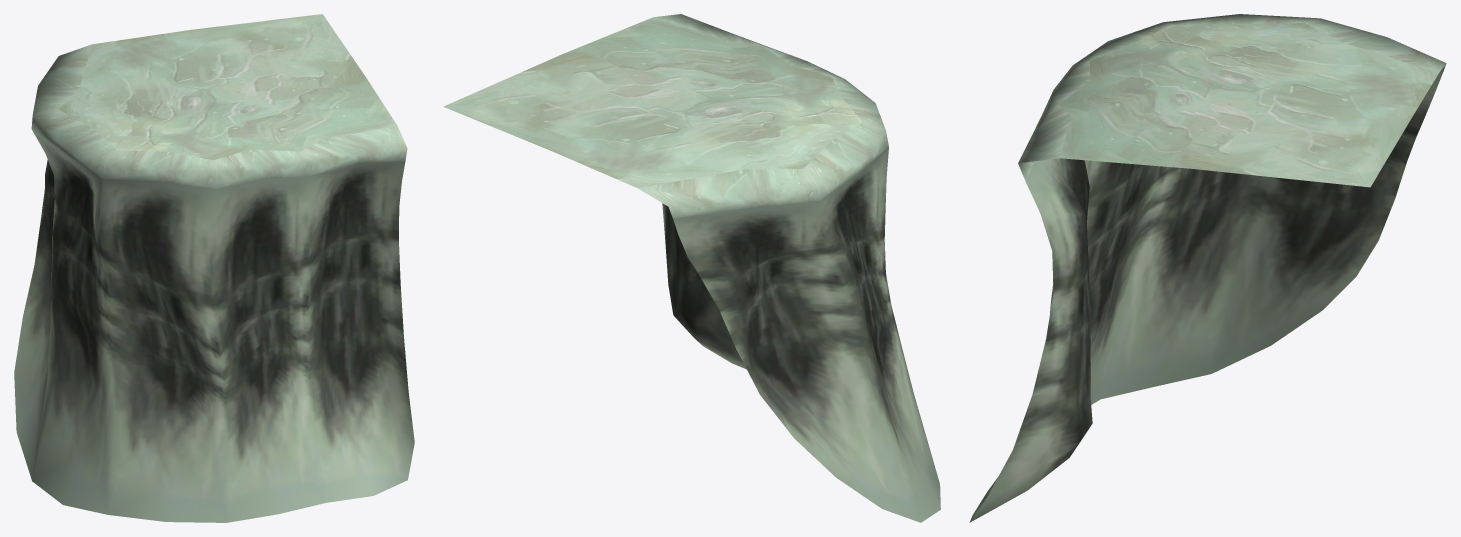
Rendered from TROLLHOLE02_MAINCAVEPLATFORM05.fbx.
3 renders of one model, left to right at view 1: azimuth 30°, elevation 25°; view 2: azimuth 150°, elevation 25°; view 3: azimuth 270°, elevation 25°, orthographic. The views are drawn at different scales.
Visible parts, largest first — view 1: TROLLHOLE02_MAINCAVEPLATFORM05; view 2: TROLLHOLE02_MAINCAVEPLATFORM05; view 3: TROLLHOLE02_MAINCAVEPLATFORM05.
Boxes of the visible parts, box(x1,y1,x2,y2) form: TROLLHOLE02_MAINCAVEPLATFORM05: box(14, 14, 414, 522); TROLLHOLE02_MAINCAVEPLATFORM05: box(443, 14, 940, 522); TROLLHOLE02_MAINCAVEPLATFORM05: box(969, 14, 1446, 522).
Size of the model in its own units: 24115 by 22103 by 23432.
Materials: 2 (2 with a texture image).
